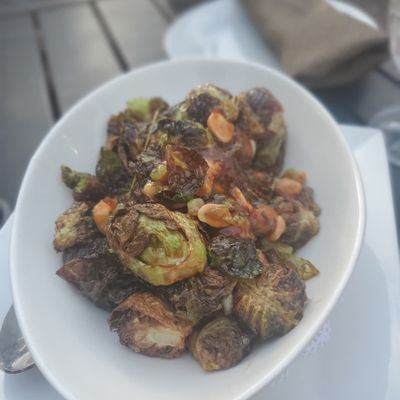sushi: (11, 57, 366, 398)
